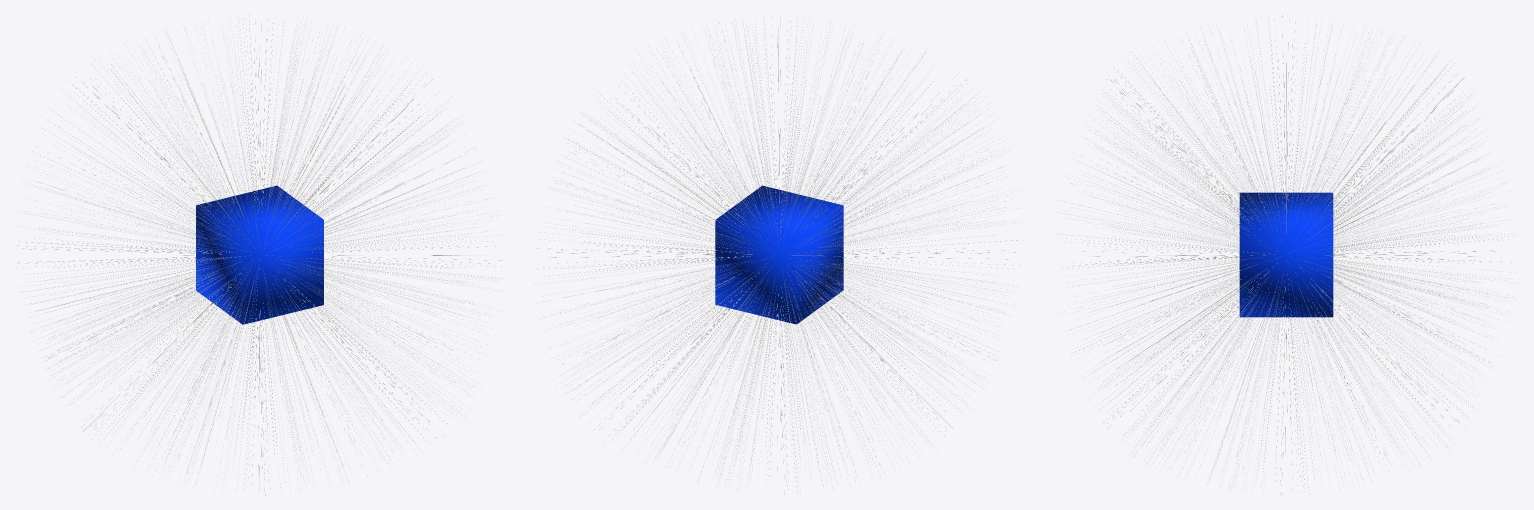
The picture shows the model from 3 angles, left to right: view 1: azimuth 30°, elevation 25°; view 2: azimuth 150°, elevation 25°; view 3: azimuth 270°, elevation 25°; orthographic projection.
Parts seen in each view (by area): view 1: Mesh, Cube; view 2: Mesh, Cube; view 3: Mesh, Cube.
Boxes of the visible parts, x1,y1,x2,y2 form: Mesh: (15,14,502,495); Cube: (196,185,323,324); Mesh: (535,15,1023,494); Cube: (715,185,843,324); Mesh: (1053,14,1518,495); Cube: (1239,192,1333,317).
Size of the model in its own units: 1000 by 997 by 995.
